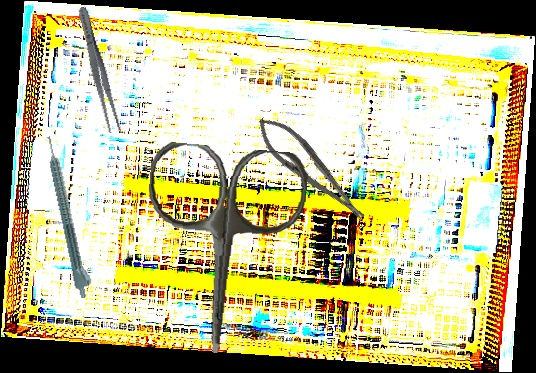Dressing Forceps: (73, 4, 124, 135)
Handpiece: (43, 133, 96, 300)
Iris Scissors: (135, 140, 310, 360)
Needle Holder: (247, 107, 375, 232)
